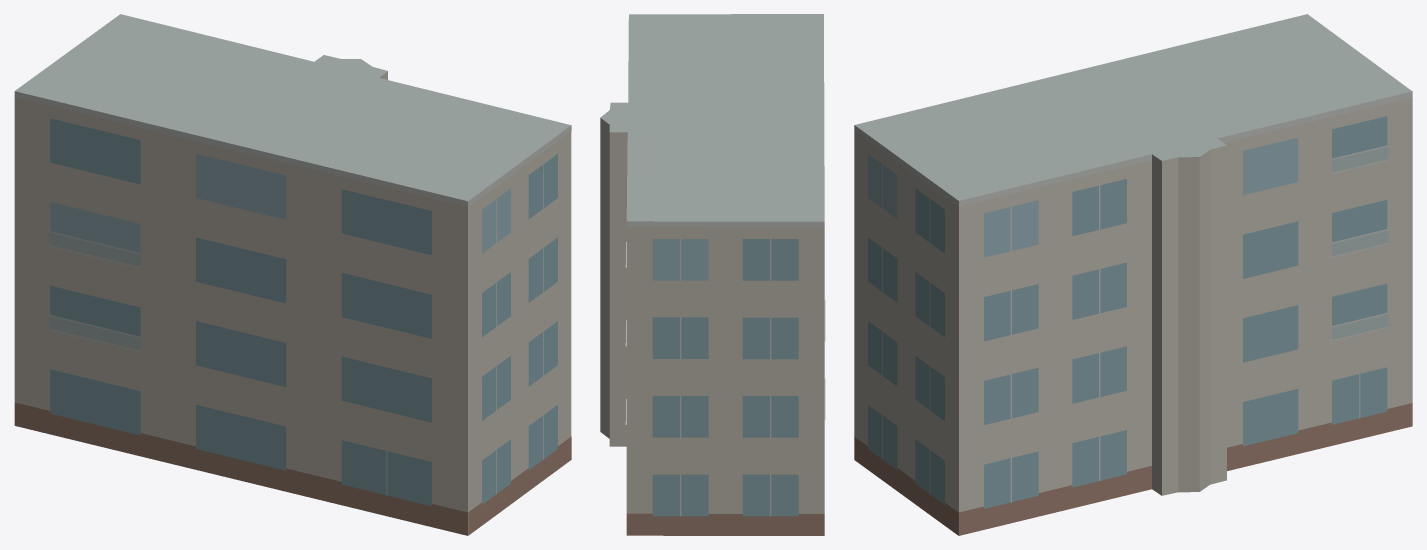
File: survey-upis-32524233.glb
3 renders of one model, left to right at view 1: azimuth 30°, elevation 25°; view 2: azimuth 150°, elevation 25°; view 3: azimuth 270°, elevation 25°, orthographic. The views are drawn at different scales.
Parts seen in each view (by area): view 1: survey-upis-32524233.tmp; view 2: survey-upis-32524233.tmp; view 3: survey-upis-32524233.tmp.
Boxes of the visible parts, x1=… form: survey-upis-32524233.tmp: x1=14, y1=14, x2=571, y2=535; survey-upis-32524233.tmp: x1=600, y1=14, x2=825, y2=535; survey-upis-32524233.tmp: x1=854, y1=14, x2=1412, y2=535.
Size of the model in its own units: 16.27 by 13.59 by 20.53.
